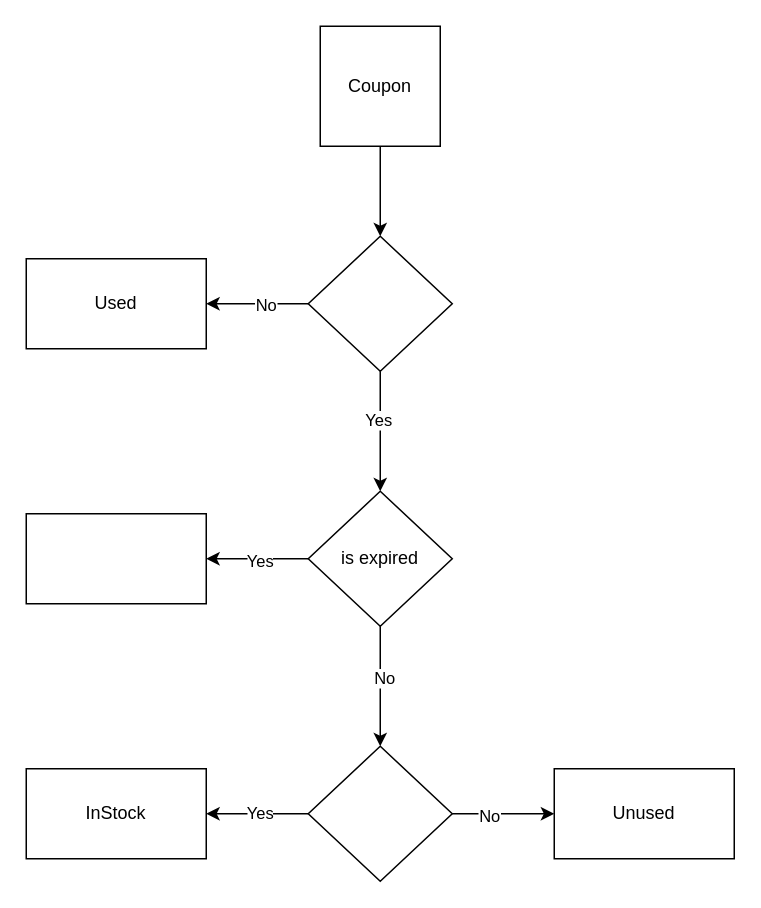
The diagram is 761 pixels wide and 908 high, and some of its shapes have lost their labels. Each missing label, with the box of its shape:
Expired: (25, 512, 206, 604)
rider_id == nil: (307, 745, 452, 881)
used_at == nil: (307, 235, 452, 371)
